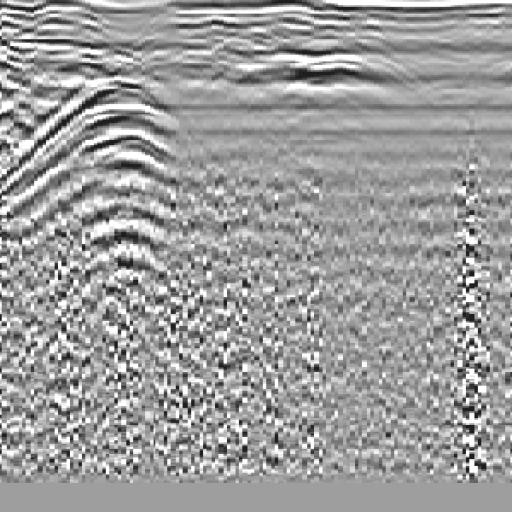metalic: (1, 54, 196, 326)
